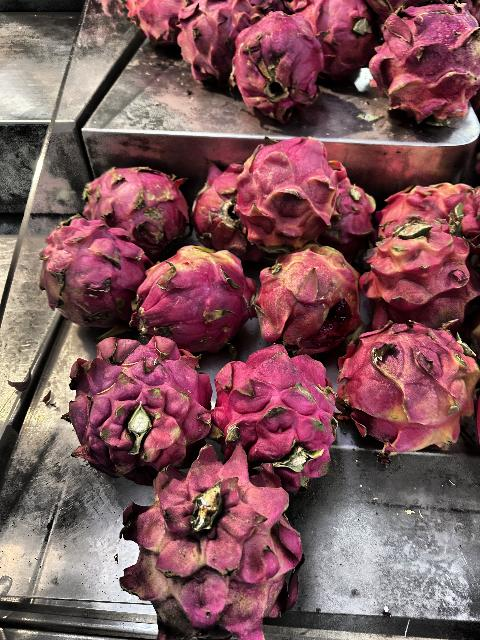buah-naga-belum-matang: (118, 458, 314, 640), (346, 323, 472, 445), (136, 245, 255, 341), (261, 246, 359, 344)
buah-naga-matang: (58, 338, 214, 478), (206, 338, 338, 486), (370, 0, 480, 122), (362, 222, 480, 331), (45, 213, 139, 331), (242, 138, 338, 252), (235, 14, 325, 120), (88, 165, 194, 247), (176, 0, 256, 80), (307, 0, 381, 84), (378, 175, 480, 229), (192, 162, 242, 242), (128, 1, 178, 45), (338, 180, 370, 238)
